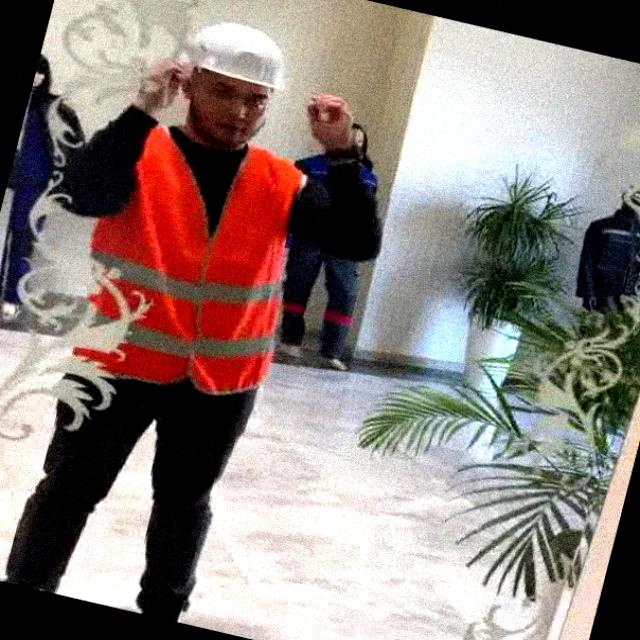Capacete: (182, 23, 283, 88)
Colete: (74, 126, 304, 393)
Pessoa: (6, 23, 381, 621), (0, 54, 84, 321), (279, 237, 358, 370), (576, 186, 639, 311)
